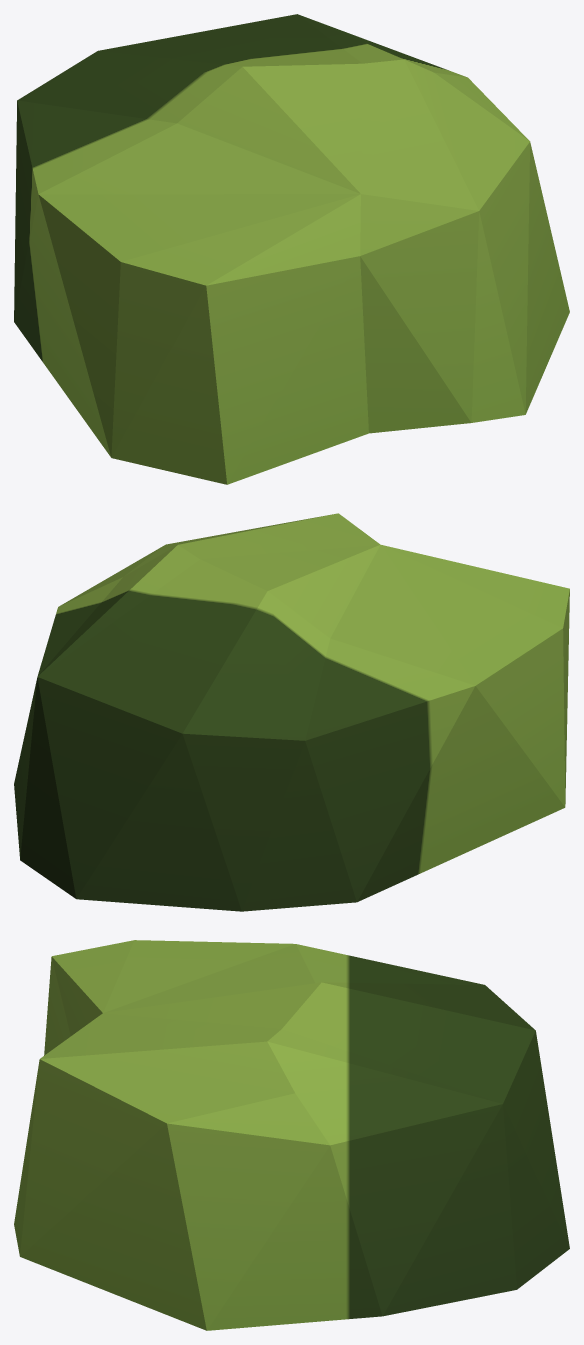
Rendered from Rock_07.fbx.
The picture shows the model from 3 angles, top to bottom: view 1: azimuth 30°, elevation 25°; view 2: azimuth 150°, elevation 25°; view 3: azimuth 270°, elevation 25°; orthographic projection. The views are drawn at different scales.
Parts seen in each view (by area): view 1: Rock_07; view 2: Rock_07; view 3: Rock_07.
Part boxes in pixels (x1=…): Rock_07: x1=14, y1=14, x2=569, y2=484; Rock_07: x1=14, y1=513, x2=569, y2=911; Rock_07: x1=14, y1=940, x2=569, y2=1330.
Size of the model in its own units: 1.48 by 0.7519 by 1.62.
